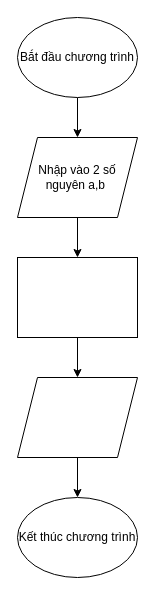
Image size: 155x595. Some labels were removed from this diagram. The shapes that lost their labels are listed below. From the top down, each one's box as (x1, y1, x2, y2) in pixels, then its label:
(16, 256, 138, 338): Sum= a + b
(16, 376, 138, 458): Xuất tổng ra màn hành
